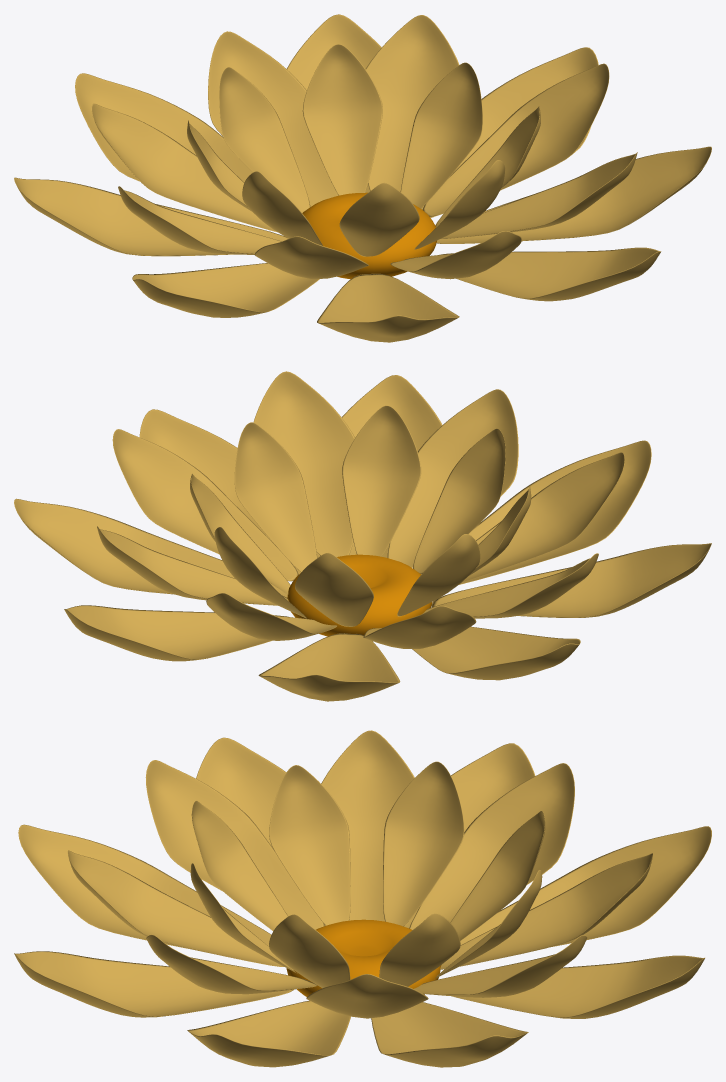
Rendered from flower.fbx.
3 renders of one model, top to bottom at view 1: azimuth 30°, elevation 25°; view 2: azimuth 150°, elevation 25°; view 3: azimuth 270°, elevation 25°, orthographic. The views are drawn at different scales.
Parts seen in each view (by area): view 1: Plane.018, Plane.001, Plane.002, Plane.012, Plane.017, Plane.003, Plane.016, Plane.008, Plane, Plane.011, Plane.010, Plane.023 (+13 smaller); view 2: Plane.005, Plane.022, Plane.002, Plane.011, Plane.006, Plane.015, Plane.009, Plane.014, Plane.007, Plane.013, Plane.019, Plane.012 (+13 smaller); view 3: Plane.003, Plane.020, Plane.021, Plane.016, Plane.004, Plane.007, Plane.014, Plane.013, Plane.010, Plane.006, Plane.008, Plane (+13 smaller).
Boxes of the visible parts, left/top/right/bottom form: Plane.018: left=302, top=44, right=382, bottom=195; Plane.001: left=365, top=15, right=459, bottom=191; Plane.002: left=422, top=63, right=609, bottom=216; Plane.012: left=14, top=177, right=288, bottom=256; Plane.017: left=400, top=62, right=482, bottom=208; Plane.003: left=91, top=103, right=277, bottom=232; Plane.016: left=437, top=247, right=661, bottom=301; Plane.008: left=436, top=146, right=711, bottom=243; Plane: left=208, top=31, right=338, bottom=206; Plane.011: left=132, top=263, right=319, bottom=317; Plane.010: left=317, top=273, right=459, bottom=342; Plane.023: left=219, top=67, right=310, bottom=212; Plane.005: left=253, top=371, right=354, bottom=556; Plane.022: left=342, top=405, right=421, bottom=556; Plane.002: left=112, top=429, right=298, bottom=581; Plane.011: left=431, top=543, right=711, bottom=617; Plane.006: left=387, top=389, right=518, bottom=567; Plane.015: left=14, top=498, right=287, bottom=597; Plane.009: left=234, top=422, right=317, bottom=572; Plane.014: left=64, top=605, right=288, bottom=661; Plane.007: left=461, top=452, right=624, bottom=582; Plane.013: left=258, top=633, right=400, bottom=701; Plane.019: left=413, top=428, right=505, bottom=573; Plane.012: left=412, top=626, right=580, bottom=680; Plane.003: left=409, top=763, right=574, bottom=929; Plane.020: left=383, top=761, right=464, bottom=926; Plane.021: left=269, top=765, right=350, bottom=925; Plane.016: left=14, top=951, right=293, bottom=1017; Plane.004: left=321, top=730, right=414, bottom=921; Plane.007: left=145, top=760, right=324, bottom=929; Plane.014: left=452, top=955, right=704, bottom=1018; Plane.013: left=460, top=826, right=711, bottom=946; Plane.010: left=18, top=824, right=271, bottom=949; Plane.006: left=67, top=850, right=283, bottom=966; Plane.008: left=187, top=1000, right=350, bottom=1067; Plane: left=440, top=853, right=652, bottom=969.
Bounding box in the file's own units: 905 × 236 × 897.
